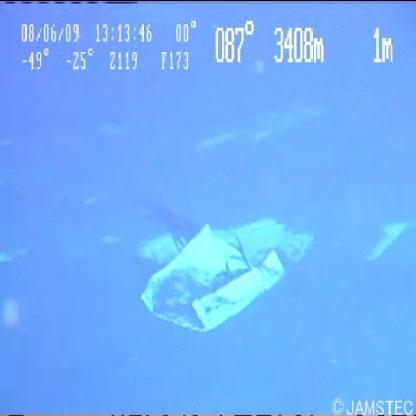Rác: (107, 186, 325, 341)
